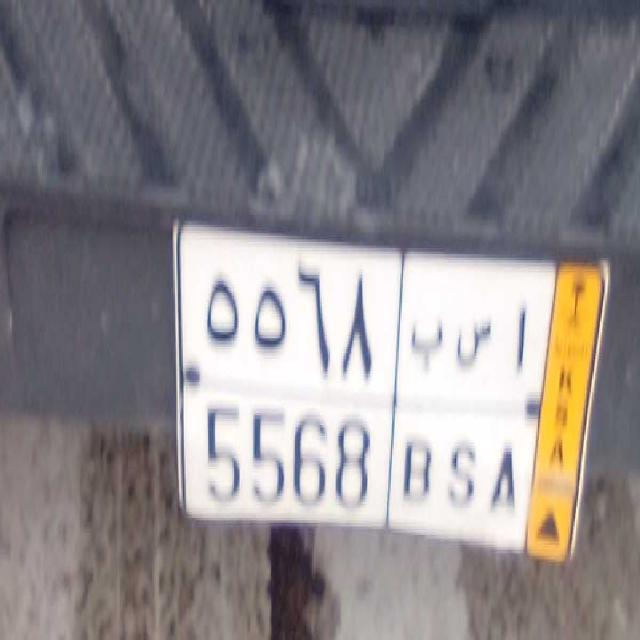license_plate: (184, 378, 532, 562)
